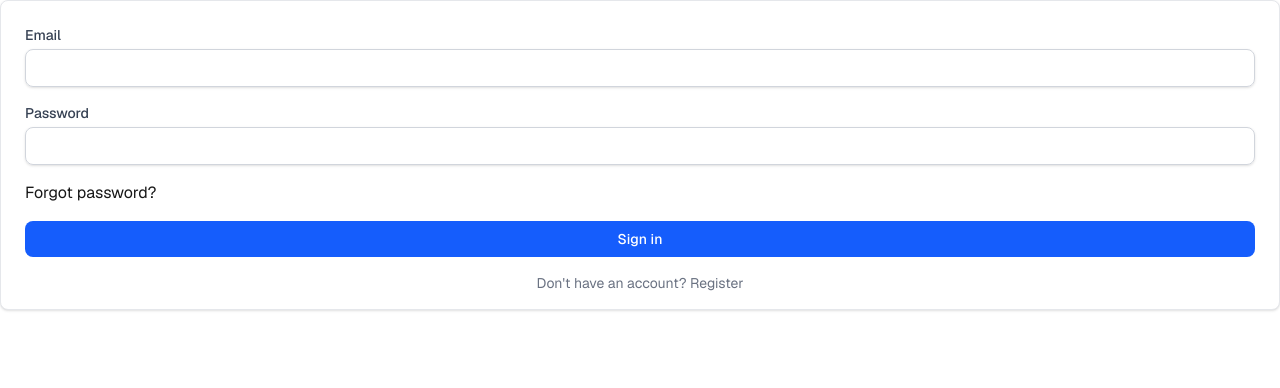
Test: LoginForm › displays server error on login failure
In the field labelled "Email": (640, 68) x1=25 y1=49 x2=1255 y2=87, type "test@example.com"
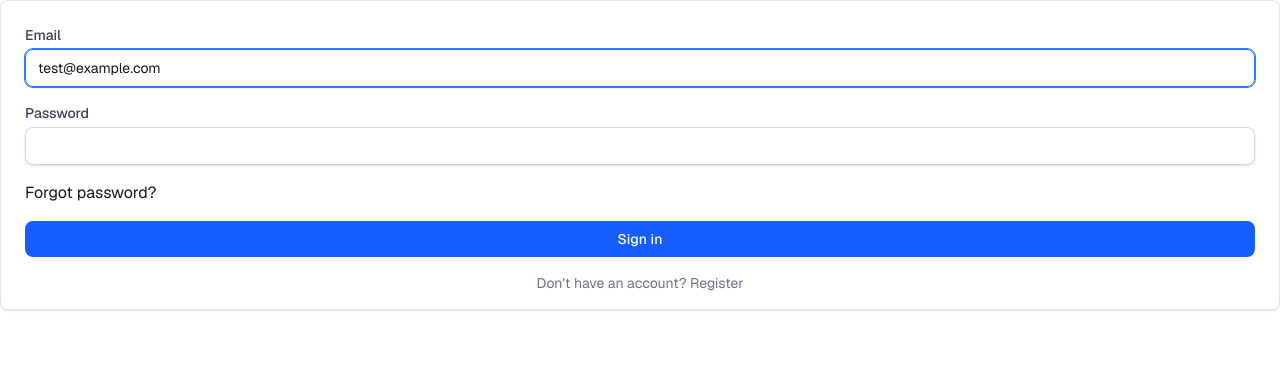
In the password field labelled "Password": (640, 146) x1=25 y1=127 x2=1255 y2=165, type "wrong"
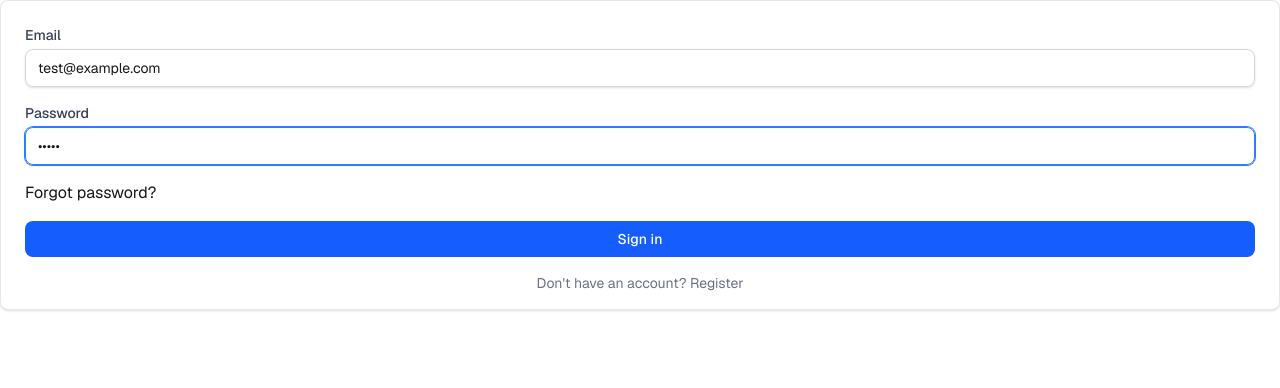
Click the button "Sign in": (640, 239) x1=25 y1=221 x2=1255 y2=257
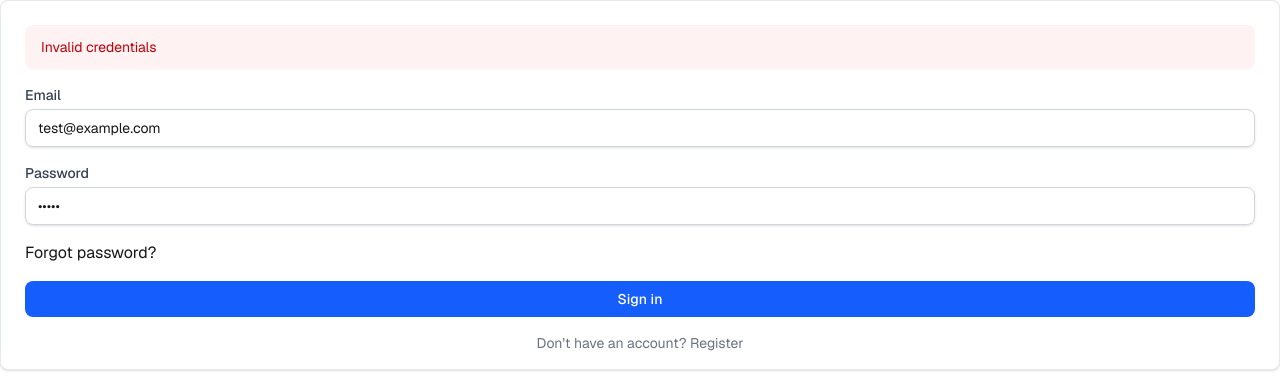
Result: the text "Invalid credentials" is shown at x1=25 y1=25 x2=1255 y2=69
